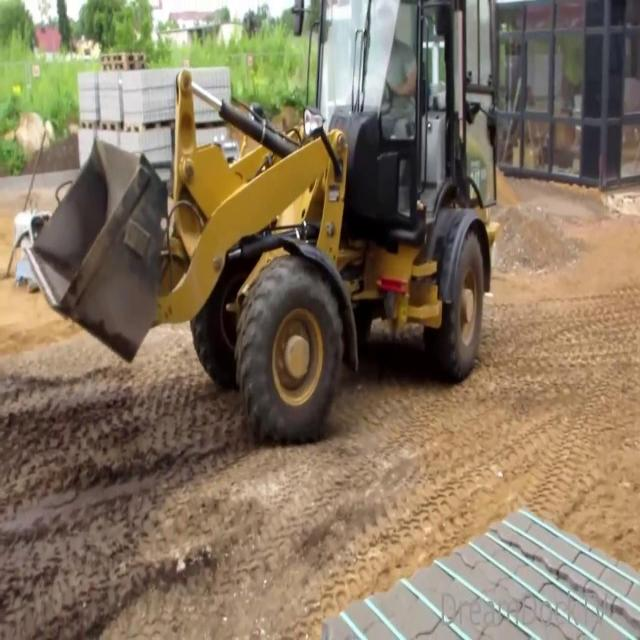buldozerpayloadergrader: (26, 0, 497, 443)
